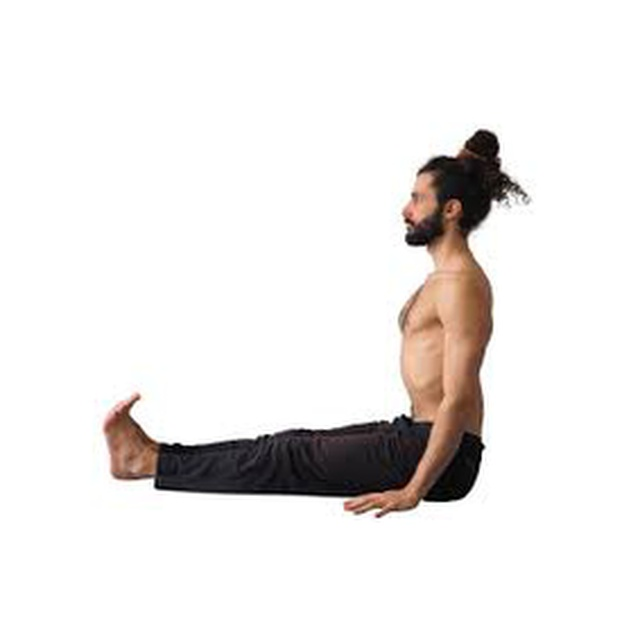Staff_Pose: (102, 127, 533, 518)
